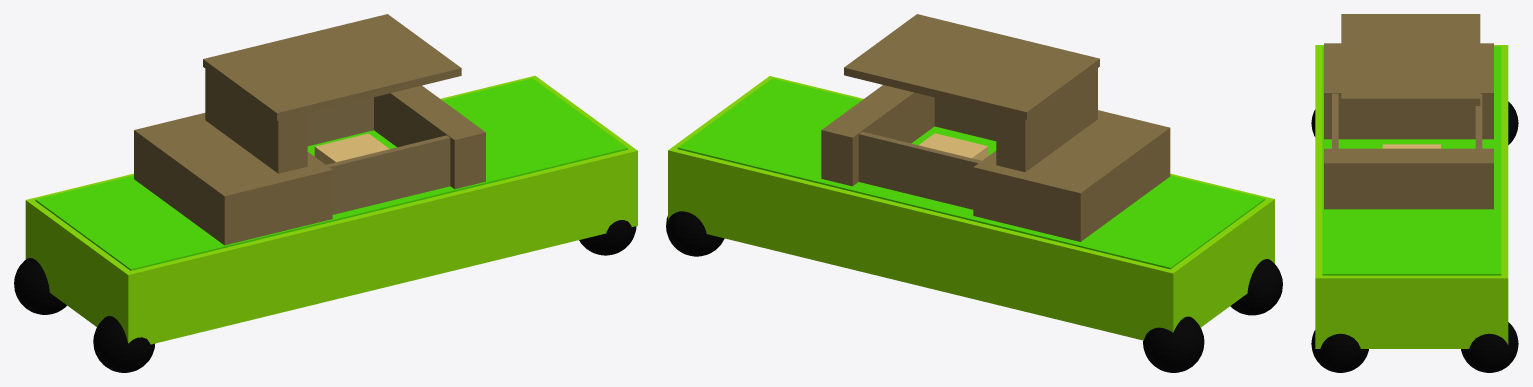
Rendered from roRyZxU.fbx.
The picture shows the model from 3 angles, left to right: view 1: azimuth 30°, elevation 25°; view 2: azimuth 150°, elevation 25°; view 3: azimuth 270°, elevation 25°; orthographic projection. The views are drawn at different scales.
Visible parts, largest first — view 1: Cube.001, Cube, Cube.005, Cube.007, Cube.004, Cube.006, Cube.008, Cube.003, Sphere, Sphere.001, Cube.002, Sphere.003; view 2: Cube.001, Cube, Cube.005, Cube.007, Cube.003, Cube.006, Cube.008, Sphere.001, Cube.004, Sphere, Sphere.002, Cube.002; view 3: Cube.001, Cube, Cube.007, Cube.006, Cube.005, Sphere.002, Sphere.003, Cube.004, Cube.003, Sphere.001, Cube.002.
Part boxes in pixels (bbox=[...]): Cube.001: bbox=[25, 75, 637, 344]; Cube: bbox=[35, 78, 627, 270]; Cube.005: bbox=[134, 113, 332, 245]; Cube.007: bbox=[203, 14, 461, 120]; Cube.004: bbox=[326, 135, 450, 214]; Cube.006: bbox=[374, 85, 485, 189]; Cube.008: bbox=[205, 69, 307, 173]; Cube.003: bbox=[307, 97, 373, 146]; Sphere: bbox=[93, 316, 154, 372]; Sphere.001: bbox=[14, 258, 66, 314]; Cube.002: bbox=[314, 133, 389, 164]; Sphere.003: bbox=[579, 220, 636, 255]; Cube.001: bbox=[668, 76, 1274, 340]; Cube: bbox=[677, 78, 1264, 269]; Cube.005: bbox=[973, 110, 1170, 241]; Cube.007: bbox=[844, 14, 1099, 119]; Cube.003: bbox=[858, 131, 981, 209]; Cube.006: bbox=[821, 85, 934, 186]; Cube.008: bbox=[996, 68, 1097, 172]; Sphere.001: bbox=[1143, 316, 1204, 372]; Cube.004: bbox=[934, 97, 996, 141]; Sphere: bbox=[1230, 259, 1282, 315]; Sphere.002: bbox=[666, 211, 724, 256]; Cube.002: bbox=[919, 133, 988, 160]; Cube.001: bbox=[1315, 45, 1508, 348]; Cube: bbox=[1322, 46, 1501, 275]; Cube.007: bbox=[1341, 14, 1480, 105]; Cube.006: bbox=[1324, 148, 1493, 209]; Cube.005: bbox=[1324, 43, 1493, 139]; Sphere.002: bbox=[1461, 322, 1518, 372]; Sphere.003: bbox=[1311, 330, 1368, 372]; Cube.004: bbox=[1332, 93, 1338, 148]; Cube.003: bbox=[1475, 94, 1482, 148]; Sphere.001: bbox=[1508, 101, 1518, 144]; Cube.002: bbox=[1382, 144, 1440, 148].
Bounding box in the file's own units: 1989 × 779 × 710.
